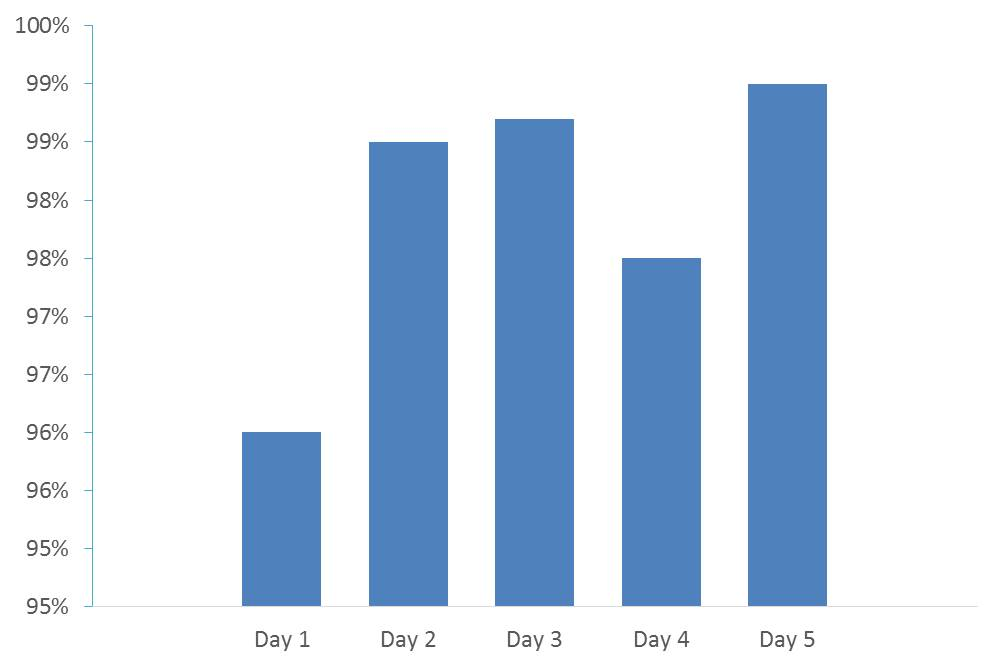S1_AxisNotZero: (7, 15, 902, 657)
